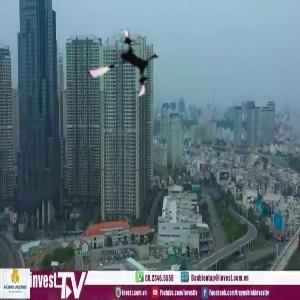drone: (88, 27, 165, 104)
